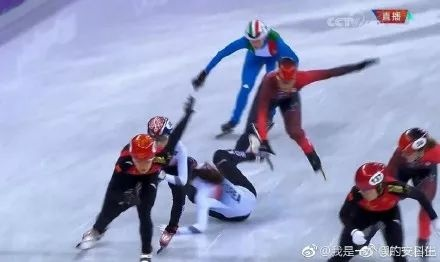falling: (166, 133, 278, 238)
